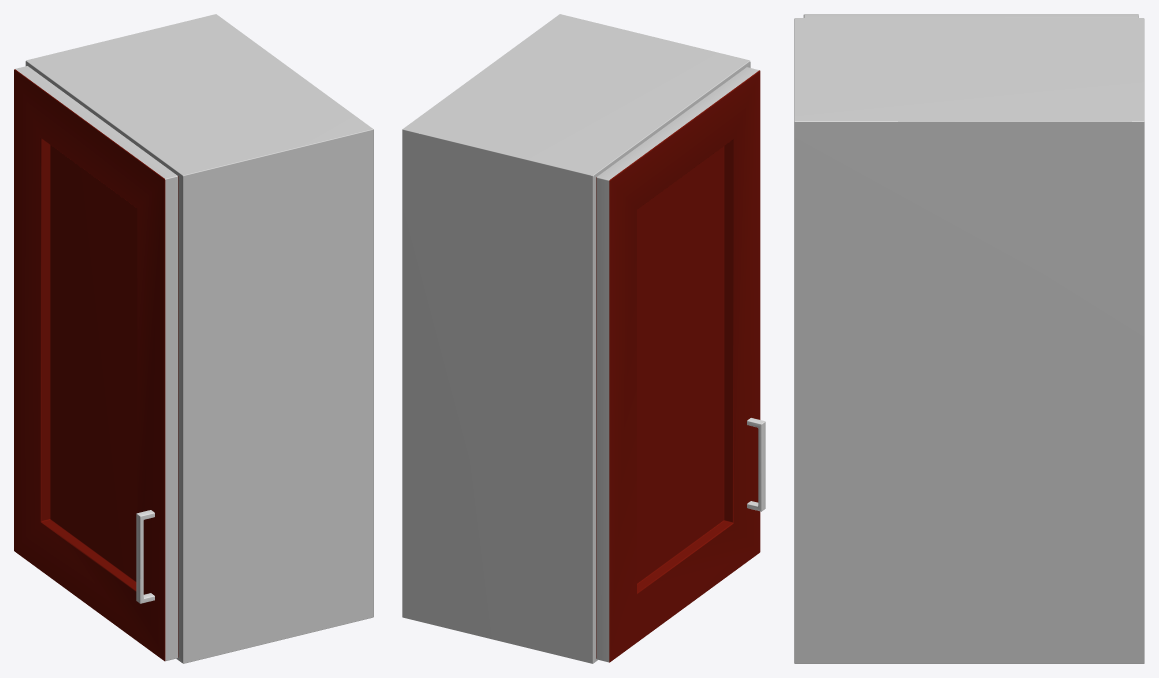
File: cabinet1.fbx
The picture shows the model from 3 angles, left to right: view 1: azimuth 30°, elevation 25°; view 2: azimuth 150°, elevation 25°; view 3: azimuth 270°, elevation 25°; orthographic projection. The views are drawn at different scales.
Visible parts, largest first — view 1: Cabinet_Wall_DD_03, Door_R.005, Pull.014; view 2: Cabinet_Wall_DD_03, Door_R.005, Pull.014; view 3: Cabinet_Wall_DD_03, Door_R.005.
Boxes of the visible parts, left/top/right/bottom form: Cabinet_Wall_DD_03: left=25, top=14, right=373, bottom=663; Door_R.005: left=14, top=66, right=178, bottom=661; Pull.014: left=136, top=510, right=154, bottom=603; Cabinet_Wall_DD_03: left=402, top=14, right=750, bottom=663; Door_R.005: left=596, top=67, right=760, bottom=662; Pull.014: left=747, top=418, right=765, bottom=511; Cabinet_Wall_DD_03: left=794, top=18, right=1144, bottom=663; Door_R.005: left=803, top=14, right=1138, bottom=17.
Size of the model in its own units: 55.61 by 118 by 69.02.
